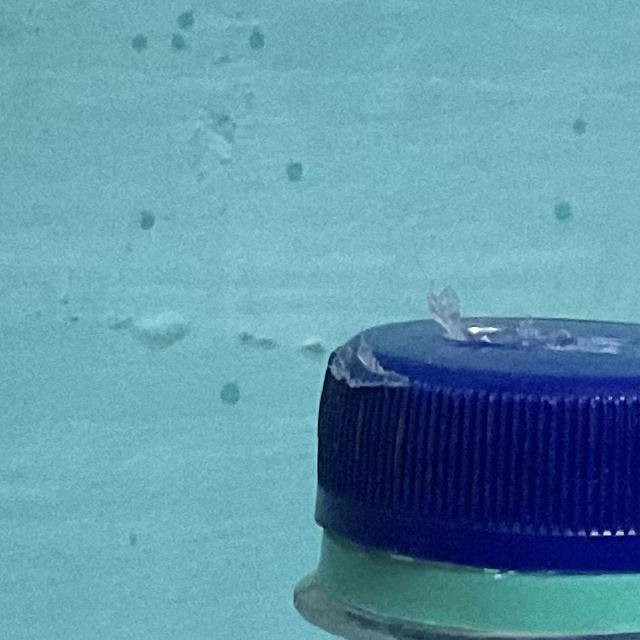Good-cap-Df0S: (292, 308, 640, 635)
